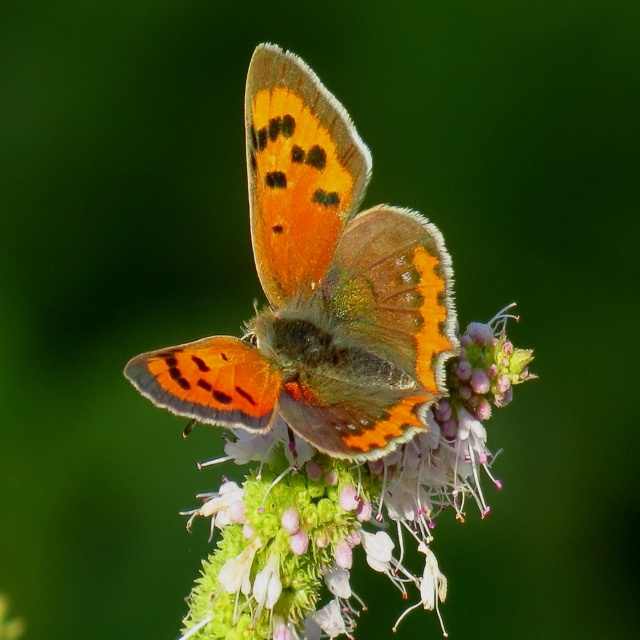Butterfly: (121, 41, 461, 457)
